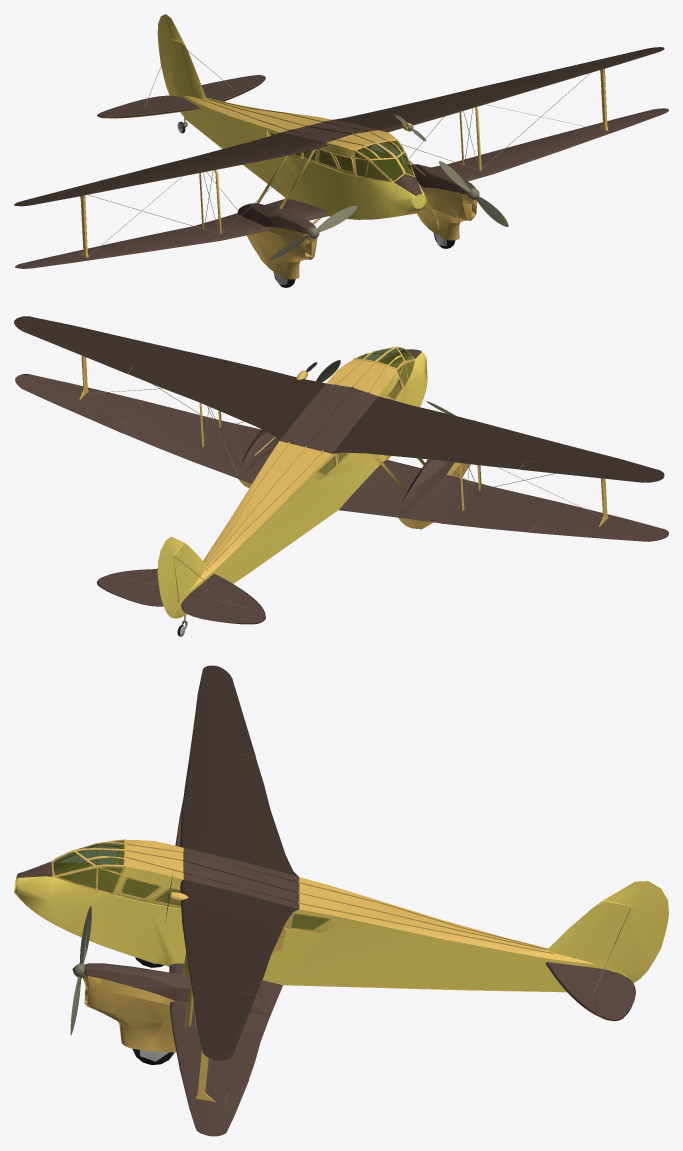
The model's file is AirplaneRAPIDE.obj.
3 renders of one model, top to bottom at view 1: azimuth 30°, elevation 25°; view 2: azimuth 150°, elevation 25°; view 3: azimuth 270°, elevation 25°, orthographic. The views are drawn at different scales.
Visible parts, largest first — view 1: (null); view 2: (null); view 3: (null).
Part boxes in pixels (left/top/right/bottom): (null): left=14, top=14, right=668, bottom=287; (null): left=14, top=316, right=668, bottom=636; (null): left=14, top=665, right=668, bottom=1136.
Bounding box in the file's own units: 136265 × 27318 × 95079.
18 materials, 11 textured.
